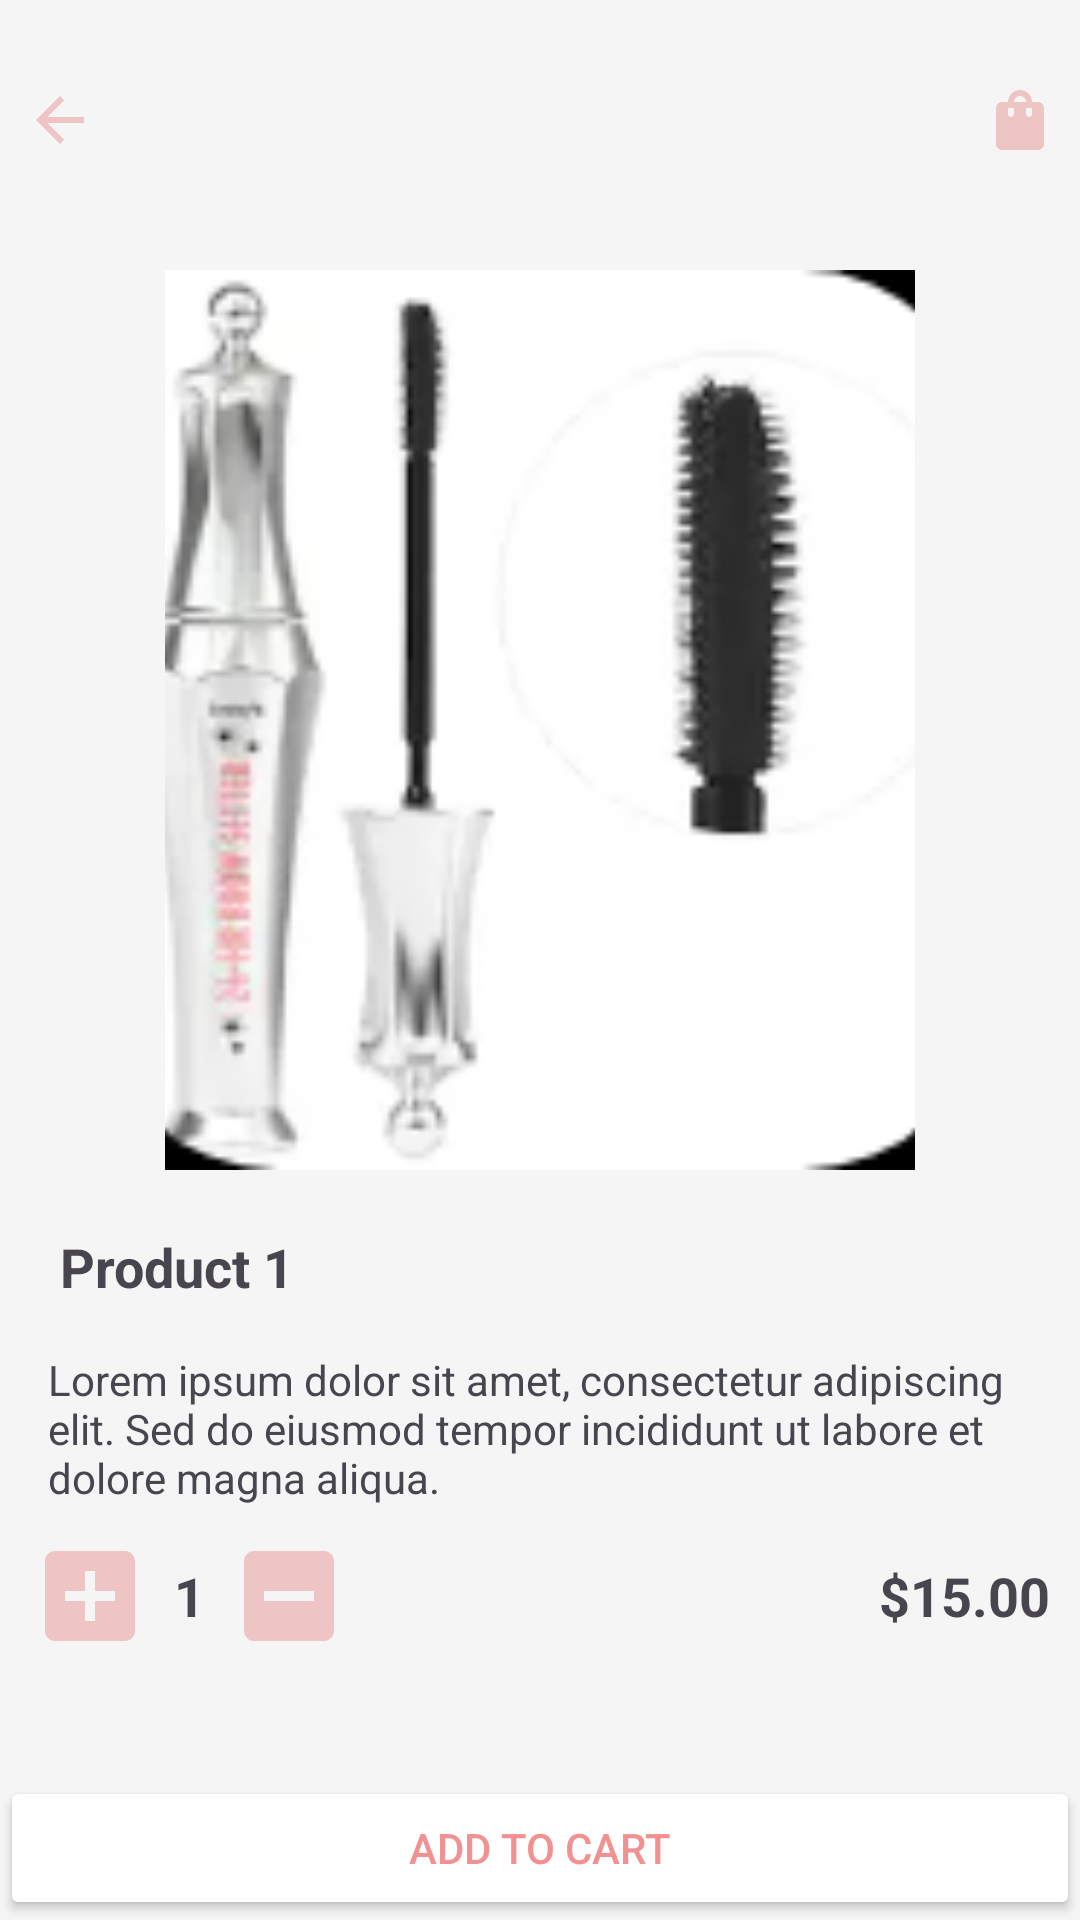

Icon bounding boxes for this 1080 × 1920 phone screenshot, format box=[x1, y1, x2, y2]:
add box: box=[45, 1551, 135, 1641]
arrow back: box=[36, 96, 84, 144]
indeterminate check box: box=[244, 1551, 334, 1641]
shopping bag: box=[996, 90, 1044, 150]
